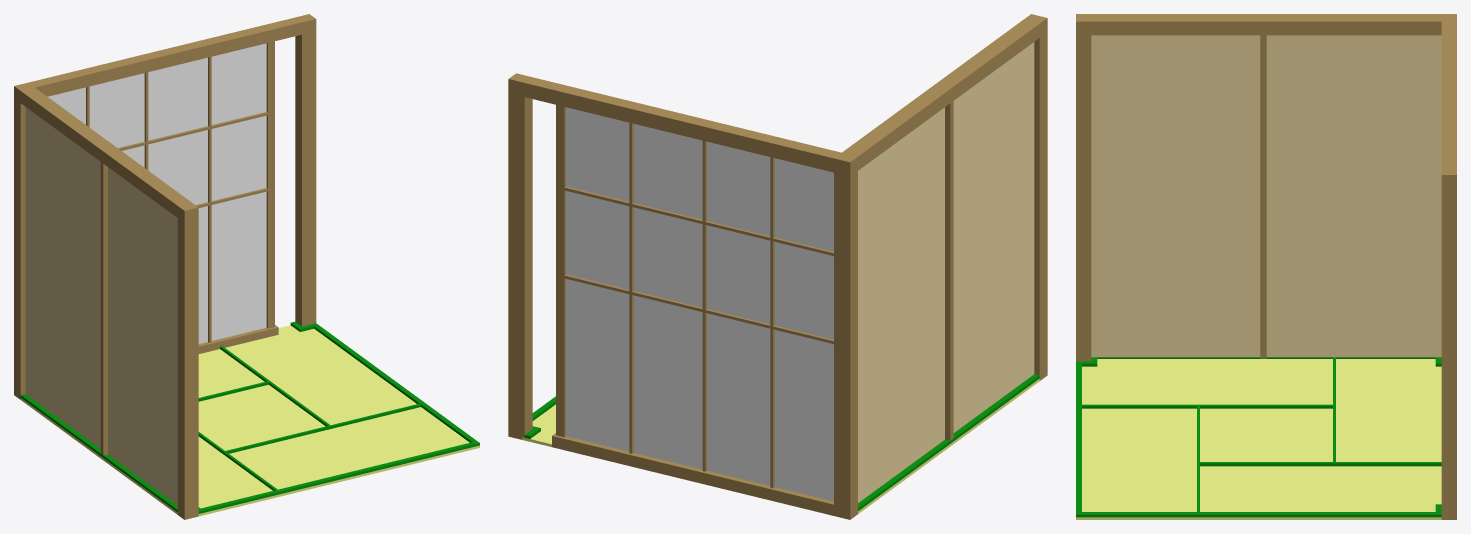
Rendered from empty_room.obj.
3 renders of one model, left to right at view 1: azimuth 30°, elevation 25°; view 2: azimuth 150°, elevation 25°; view 3: azimuth 270°, elevation 25°, orthographic. The views are drawn at different scales.
Size of the model in its own units: 12.6 by 12.6 by 12.6.
1 material, 1 textured.
